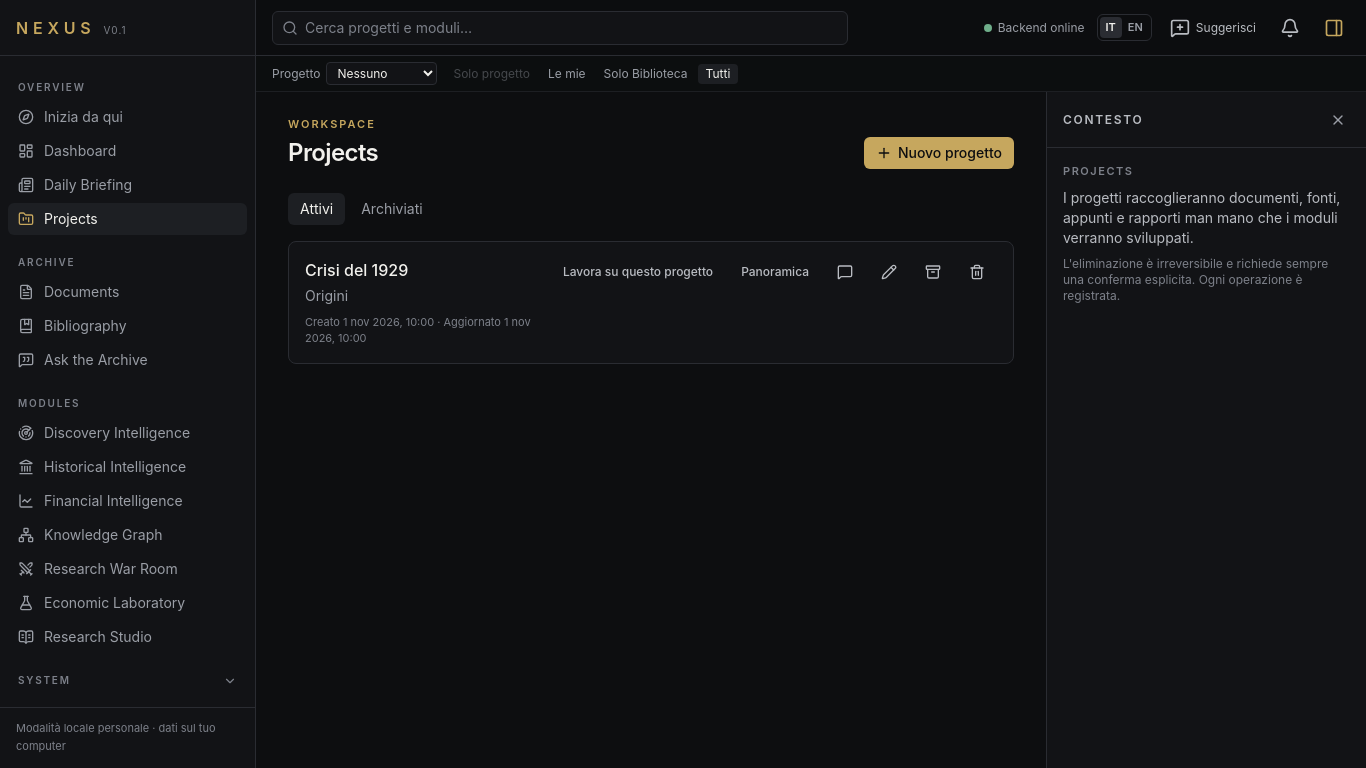
Test: Projects page › requires explicit confirmation before deleting
Later steps or results of the test are not shown.
Click the button named "Elimina Crisi del 1929" at (977, 272), box [957,258,997,286]
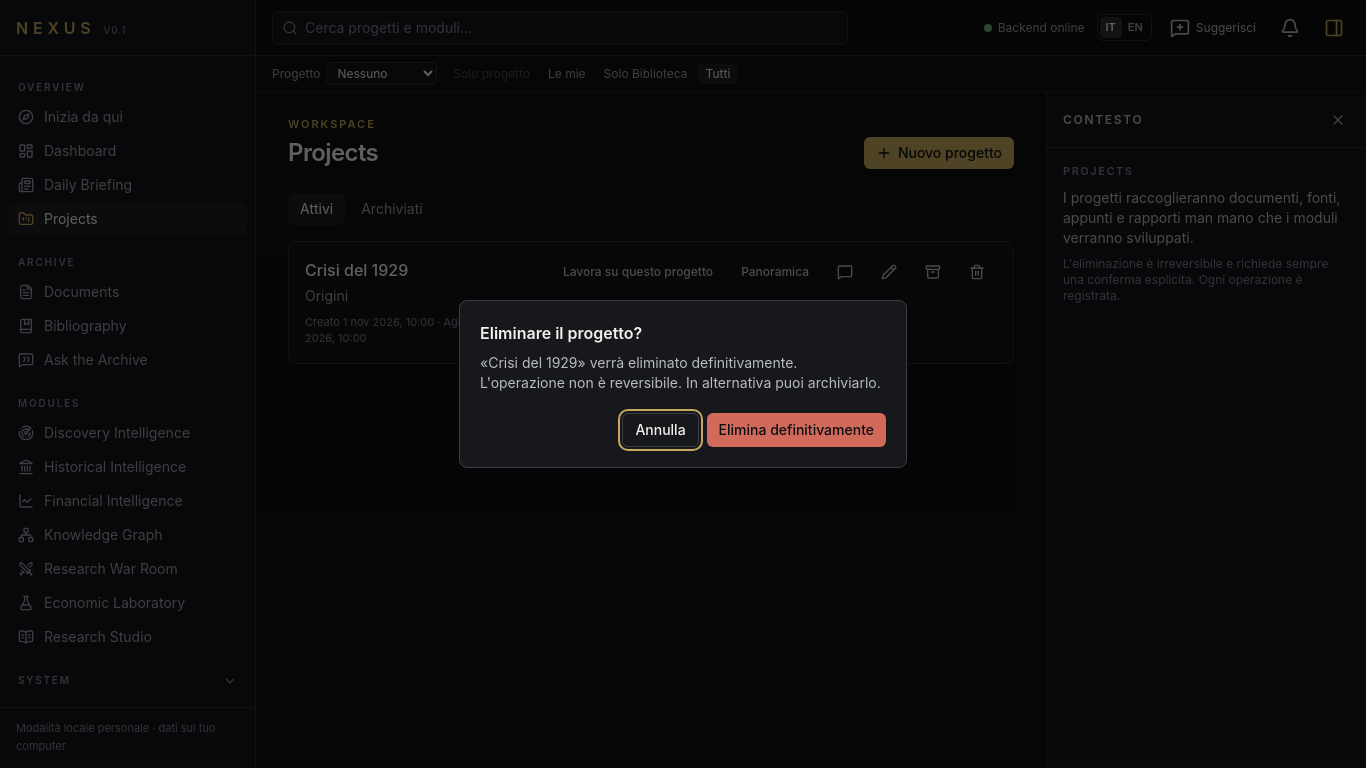
Now the dialog shows "non è reversibile", box [480,354,881,391]
